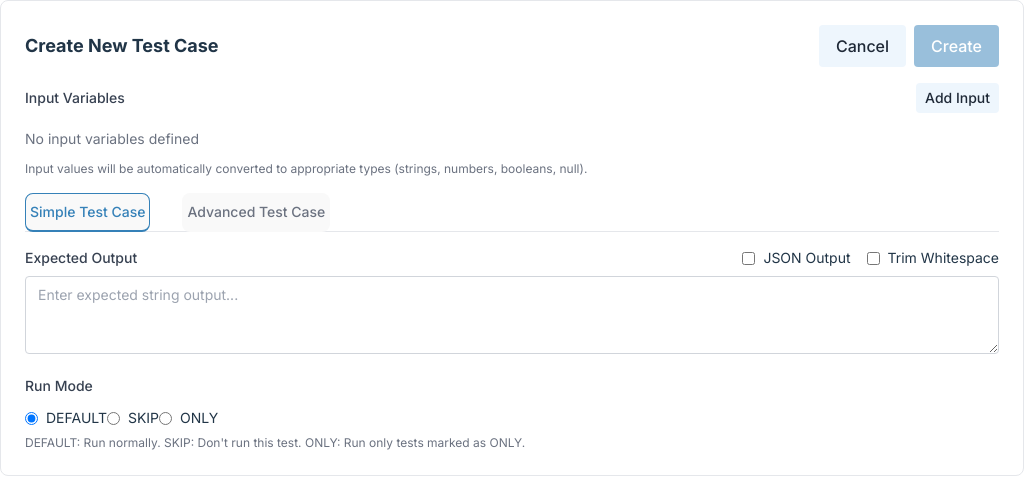
Test case: TestCaseEditor › disables create button when form is invalid
The image size is (1024, 502).
Expected: the button "Create" is disabled, [914, 25, 999, 67]
Add input but no expected output
Click the button "Add Input" at (958, 98), box [916, 83, 999, 113]
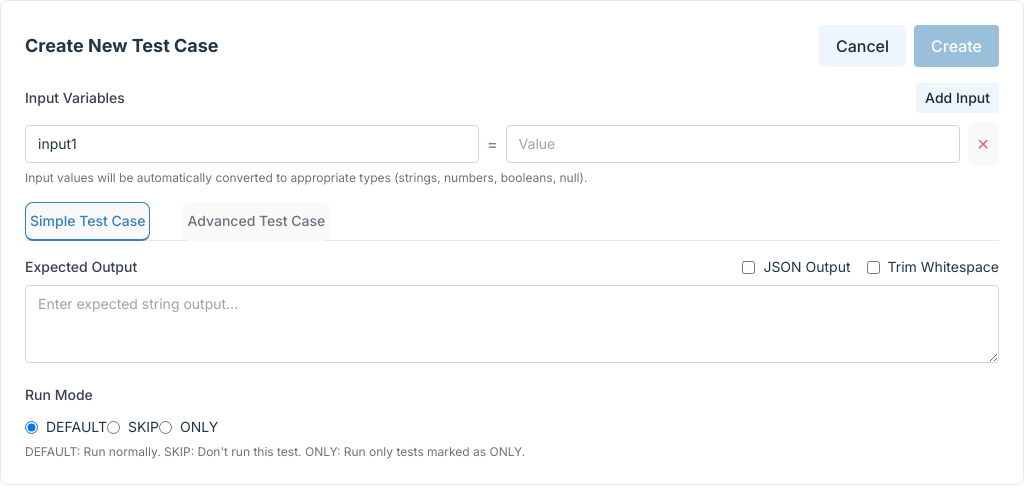
Replace the text in the field with placeholder "Key" with "test" at (252, 144), box [25, 125, 479, 163]
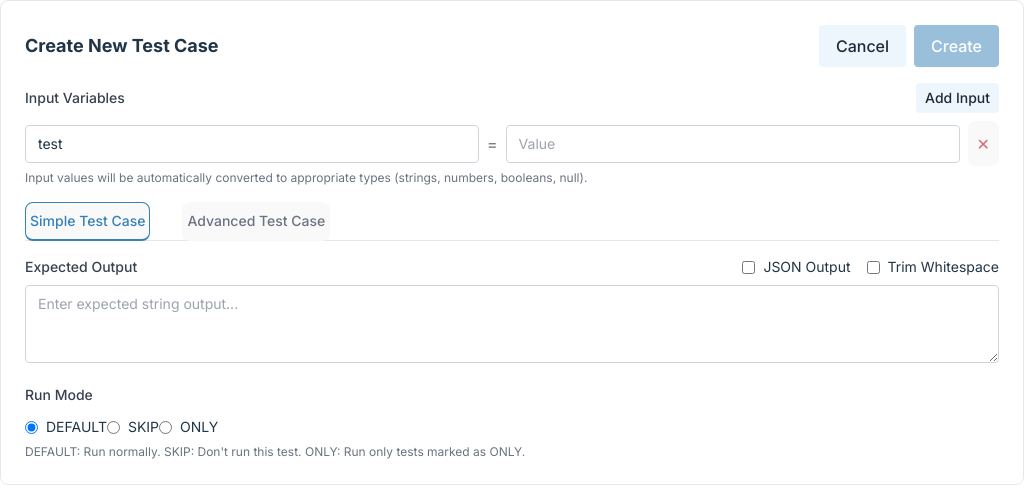
Type "value" into the field with placeholder "Value" at (733, 144), box [506, 125, 960, 163]
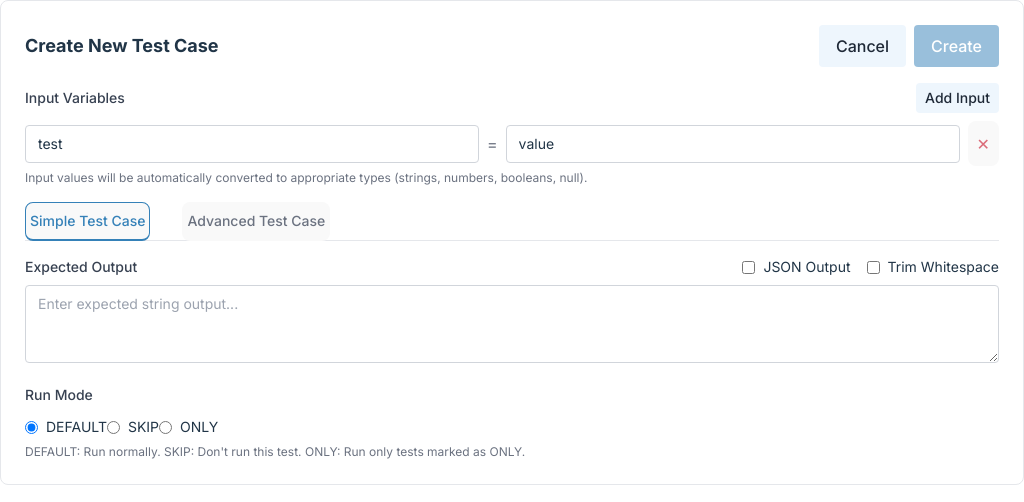
Expected: the button "Create" is disabled, [914, 25, 999, 67]
Add expected output
Type "Expected result" into the text box with placeholder "Enter expected string output..." at (512, 324), box [25, 285, 999, 363]
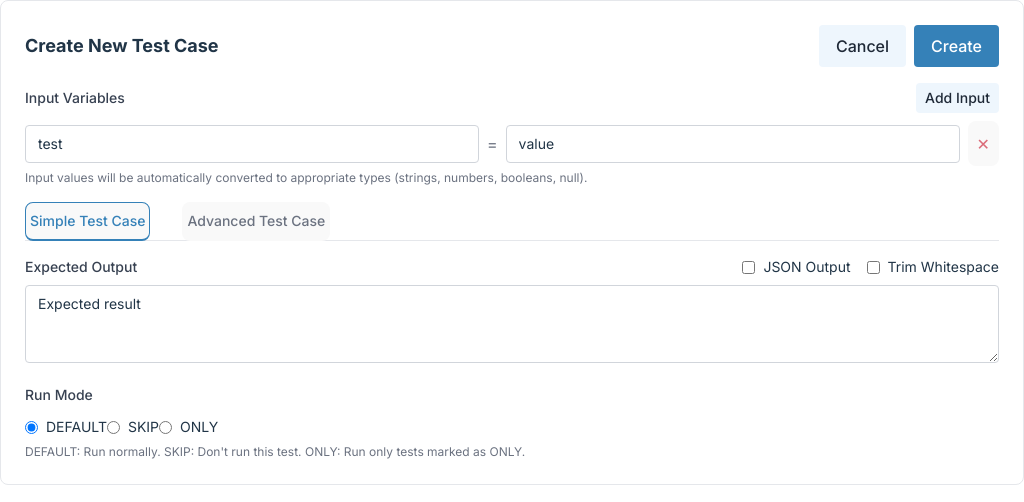
Expected: the button "Create" is enabled, [914, 25, 999, 67]
